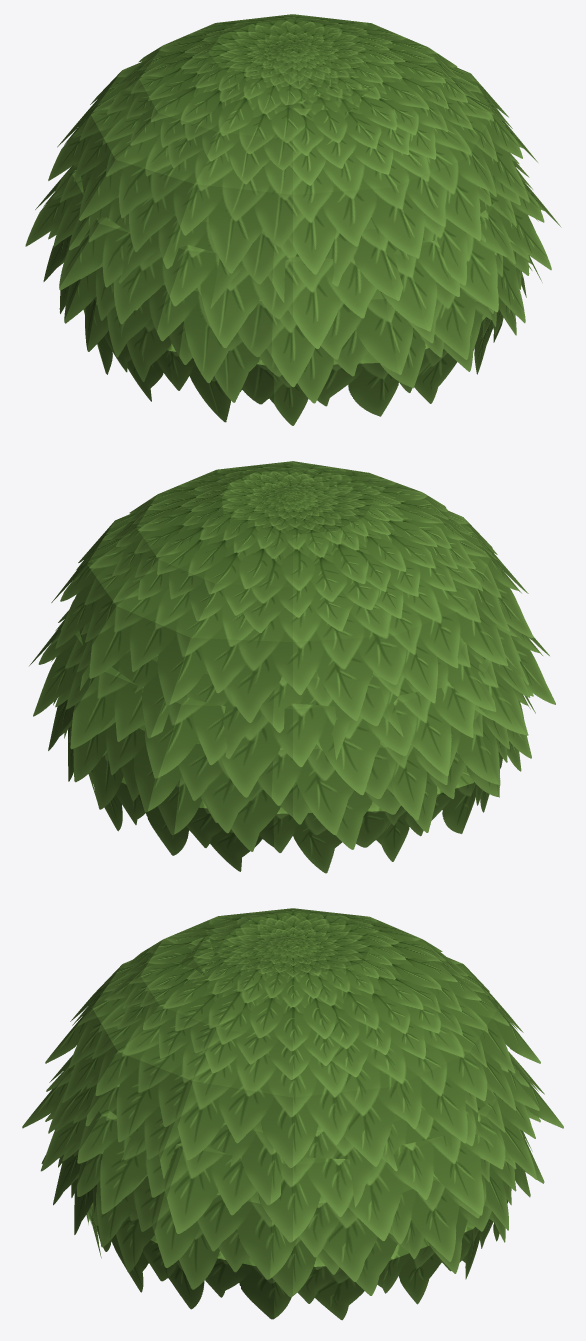
The model's file is Bush.fbx.
The picture shows the model from 3 angles, top to bottom: view 1: azimuth 30°, elevation 25°; view 2: azimuth 150°, elevation 25°; view 3: azimuth 270°, elevation 25°; orthographic projection.
Visible parts, largest first — view 1: Bush; view 2: Bush; view 3: Bush.
Part boxes in pixels (x1,y1,x2,y2): Bush: [25, 14, 561, 425]; Bush: [29, 461, 555, 873]; Bush: [22, 908, 563, 1320].
Bounding box in the file's own units: 164 × 96.95 × 164.
